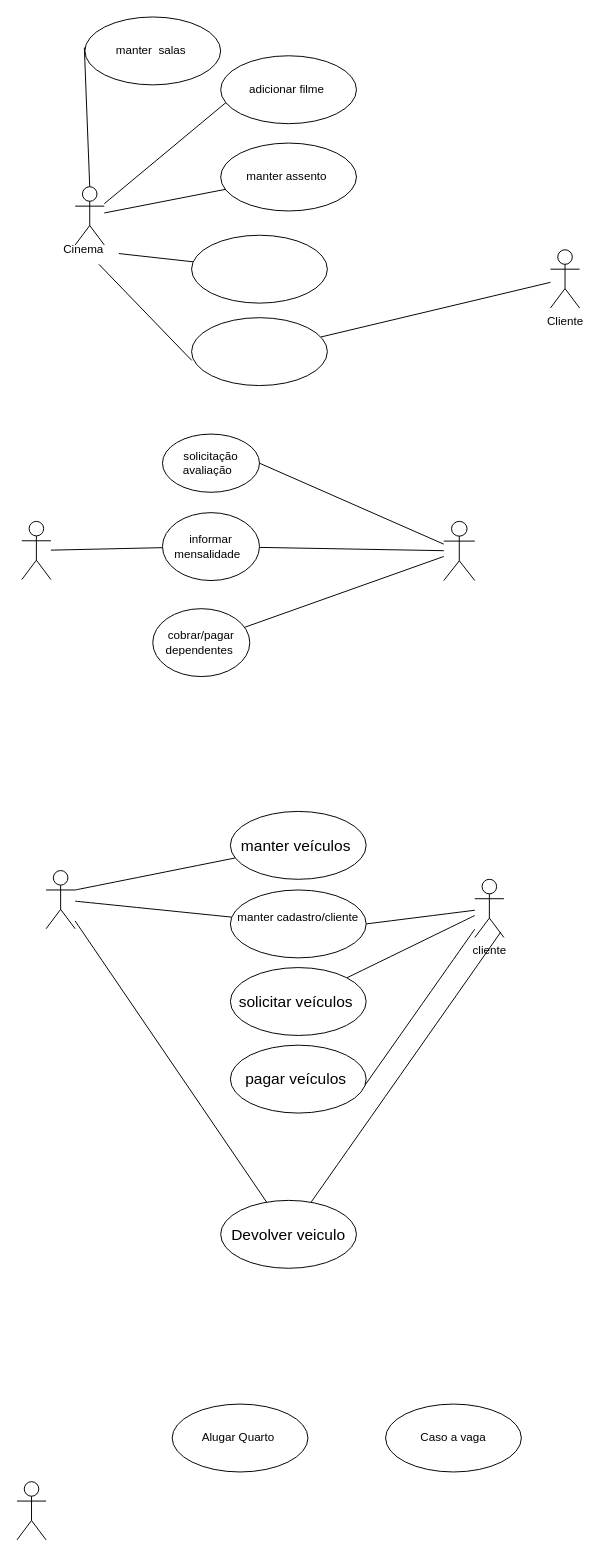
The diagram is 599 pixels wide and 1557 high, and some of its shapes have lost their labels. Here are the shapes that lost their labels. From the top down, the centre of each, then its label:
At (259,268): "Manter horários".
At (259,351): "manter ingresso".
At (36,550): "Clube".
At (459,550): "candidato".
At (60,899): "empresa".
